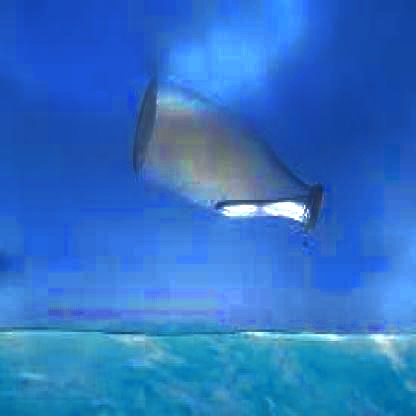gbottle: (124, 62, 325, 246)
